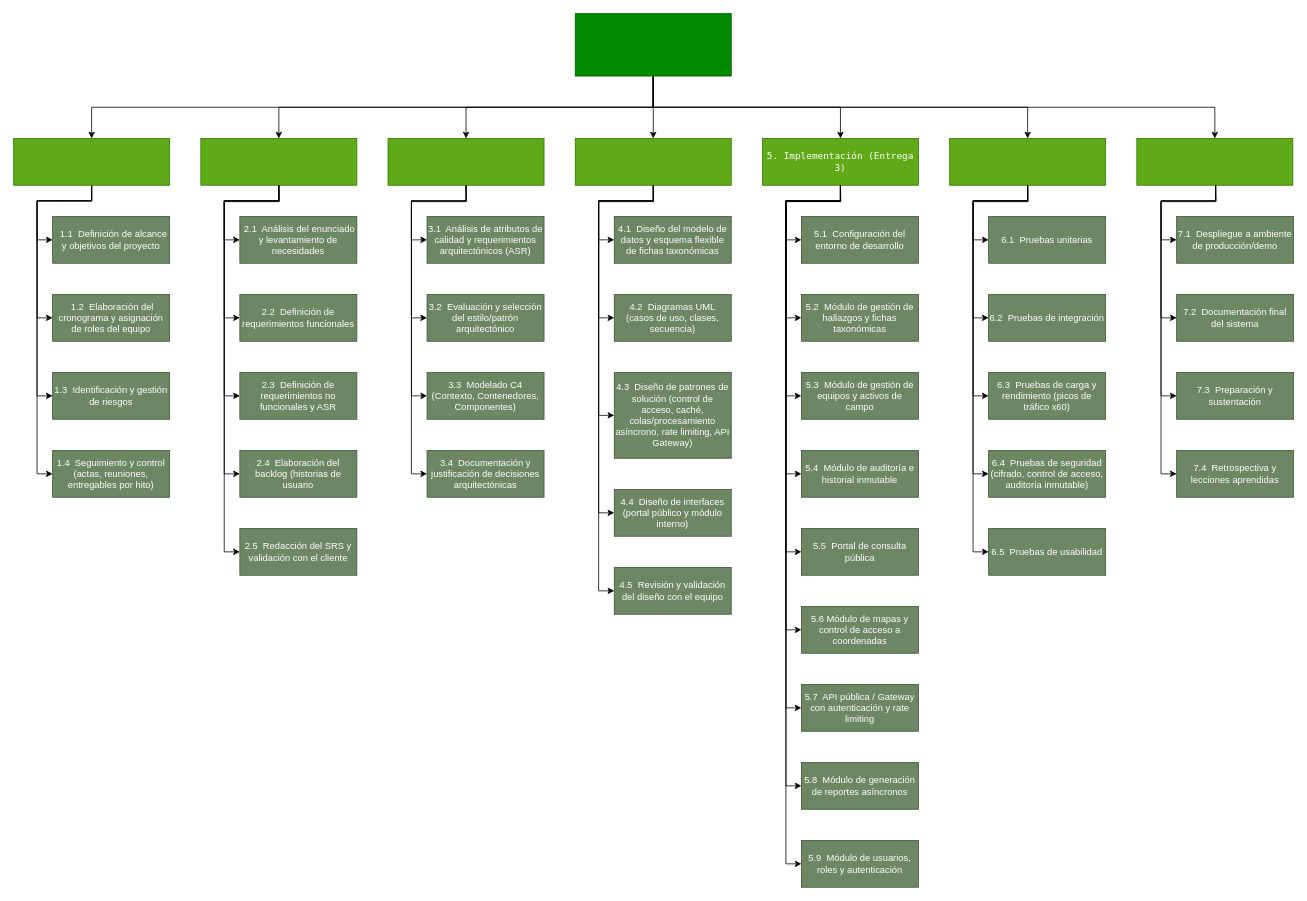
Some shapes in this 1307 by 901 pixel diagram are drawn without their labels. The shapes that lost their labels are listed below. From the top down, each one's centre as x and y in pixels, then its label:
At [652,44]: "WBS BIOHUB".
At [91,161]: "1. Gestión y Planificación del Proyecto".
At [278,161]: "2. Especificación de Requerimientos (Entrega 1)".
At [465,161]: "3. Definición de Arquitectura (Entrega 2)".
At [652,161]: "4. Diseño (Entrega 2)".
At [1027,161]: "6. Pruebas y Aseguramiento de Calidad".
At [1214,161]: "7. Despliegue y Cierre del Proyecto".
